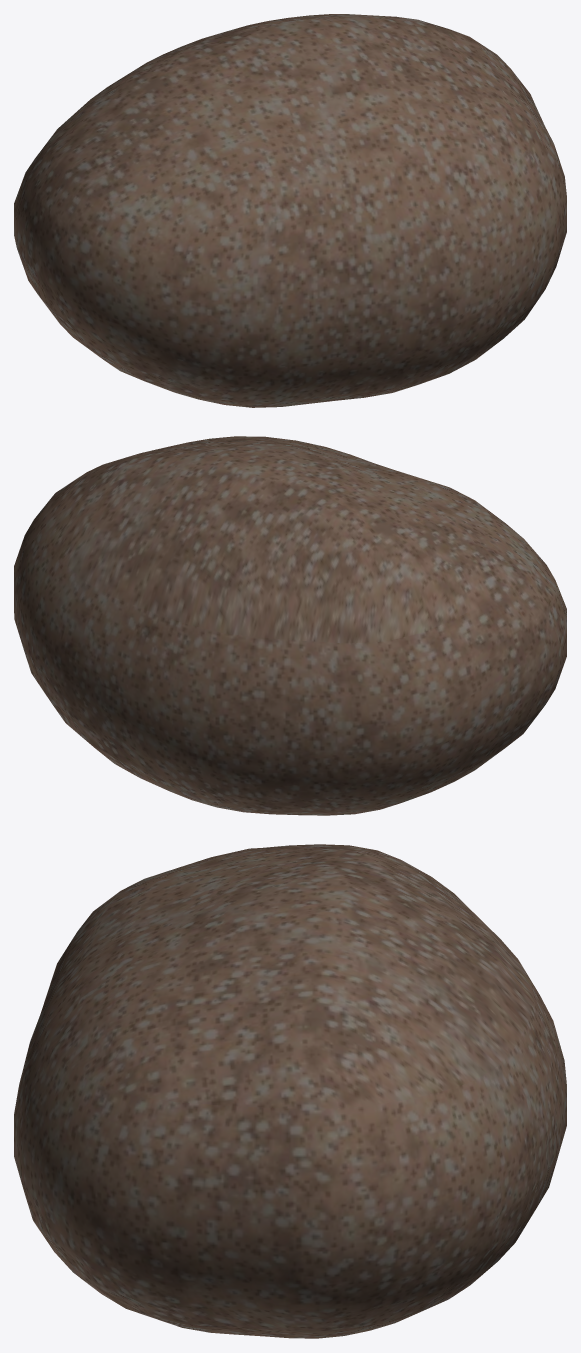
Rendered from plunge_boulder_02.glb.
3 views of the same model, one above another, from view 1: azimuth 30°, elevation 25°; view 2: azimuth 150°, elevation 25°; view 3: azimuth 270°, elevation 25° (orthographic). The views are drawn at different scales.
Visible parts, largest first — view 1: plunge_boulder_02; view 2: plunge_boulder_02; view 3: plunge_boulder_02.
Boxes of the visible parts, x1,y1,x2,y2 form: plunge_boulder_02: [14, 14, 566, 407]; plunge_boulder_02: [14, 436, 566, 815]; plunge_boulder_02: [14, 844, 566, 1338].
Bounding box in the file's own units: 0.0793 × 0.0498 × 0.0623.
Materials: 1 (1 with a texture image).
